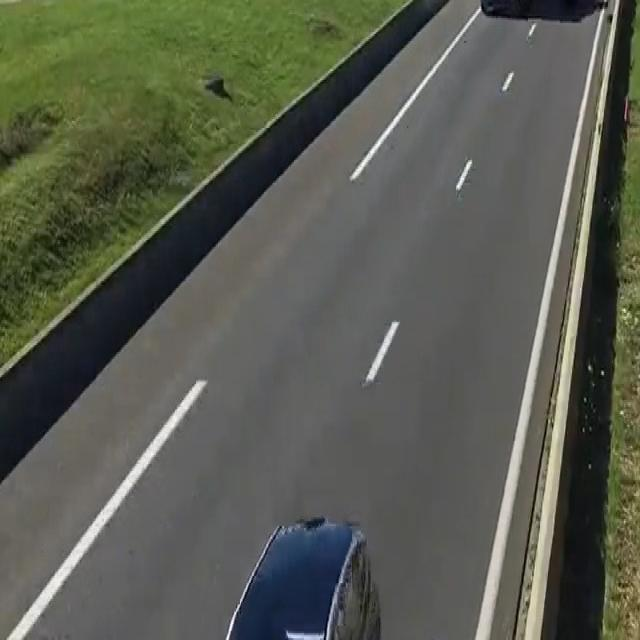truck: (463, 0, 555, 30)
